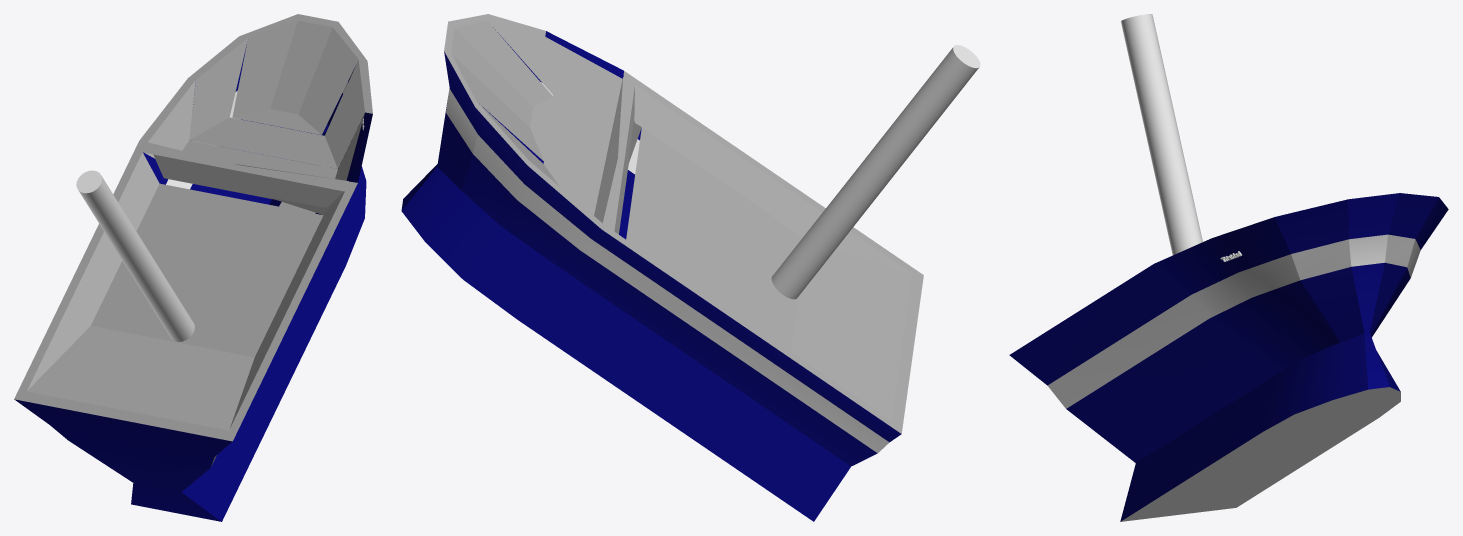
Rendered from Trinidad.fbx.
3 renders of one model, left to right at view 1: azimuth 30°, elevation 25°; view 2: azimuth 150°, elevation 25°; view 3: azimuth 270°, elevation 25°, orthographic. The views are drawn at different scales.
Parts seen in each view (by area): view 1: pCylinder2; view 2: pCylinder2; view 3: pCylinder2.
Part boxes in pixels (x1,y1,x2,y2): pCylinder2: (14, 14, 372, 521); pCylinder2: (401, 14, 980, 521); pCylinder2: (1009, 14, 1448, 521).
Size of the model in its own units: 15.52 by 15.12 by 13.23.
